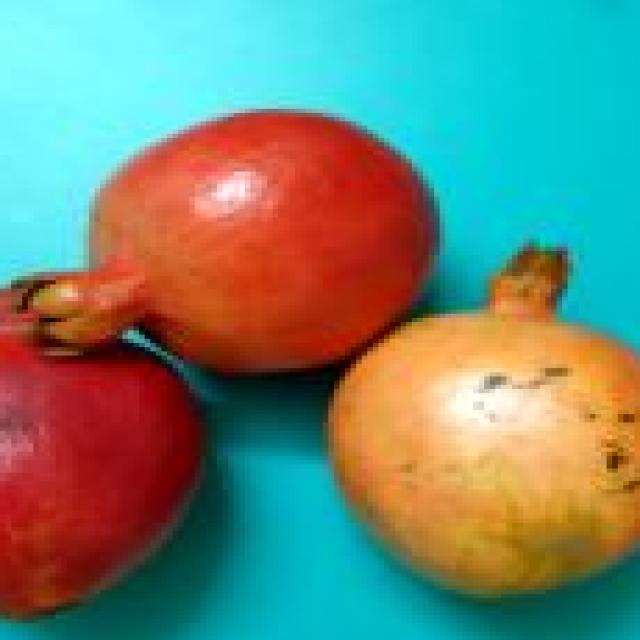Good_Pomegranate 50-60-days: (317, 238, 640, 606)
